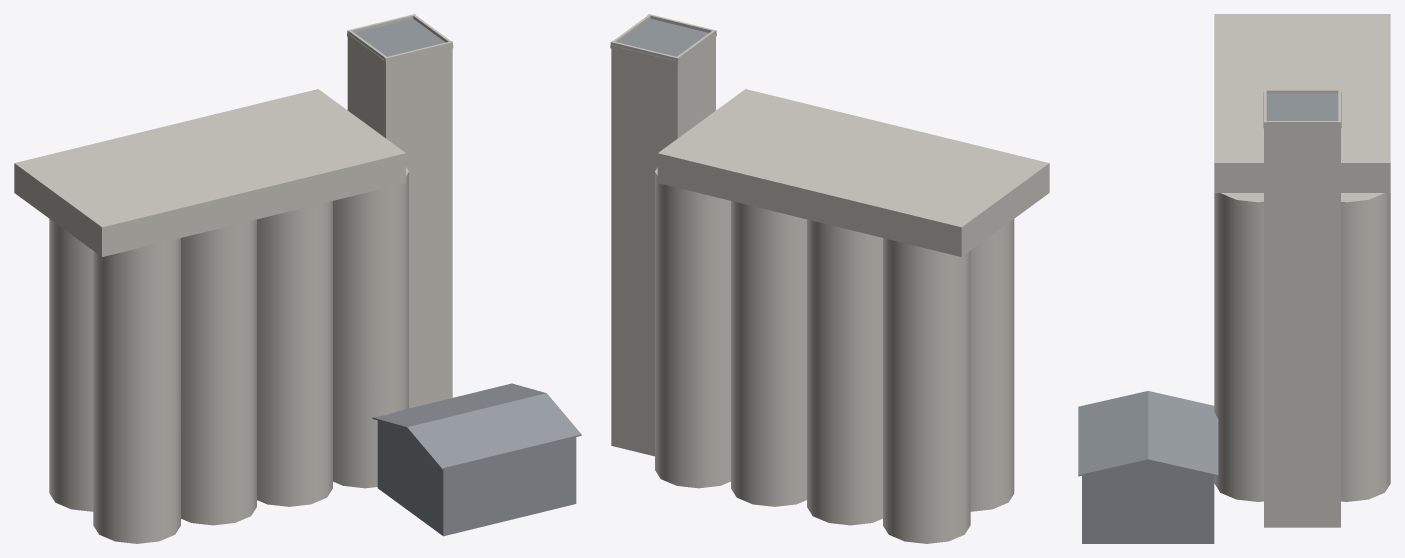
File: silos_grains.glb
3 views of the same model, side by side, from view 1: azimuth 30°, elevation 25°; view 2: azimuth 150°, elevation 25°; view 3: azimuth 270°, elevation 25° (orthographic).
Parts seen in each view (by area): view 1: silos_grains; view 2: silos_grains; view 3: silos_grains.
Part boxes in pixels (x1=…): silos_grains: x1=14, y1=14, x2=581, y2=543; silos_grains: x1=610, y1=14, x2=1049, y2=543; silos_grains: x1=1078, y1=14, x2=1390, y2=543.
Bounding box in the file's own units: 43.35 × 40.6 × 28.35.
1 material, 1 textured.
